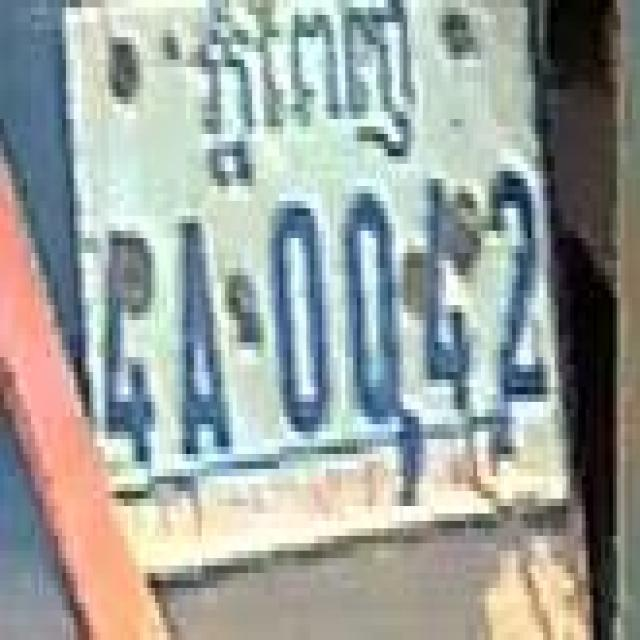Phnom_Penh: (202, 8, 418, 188)
